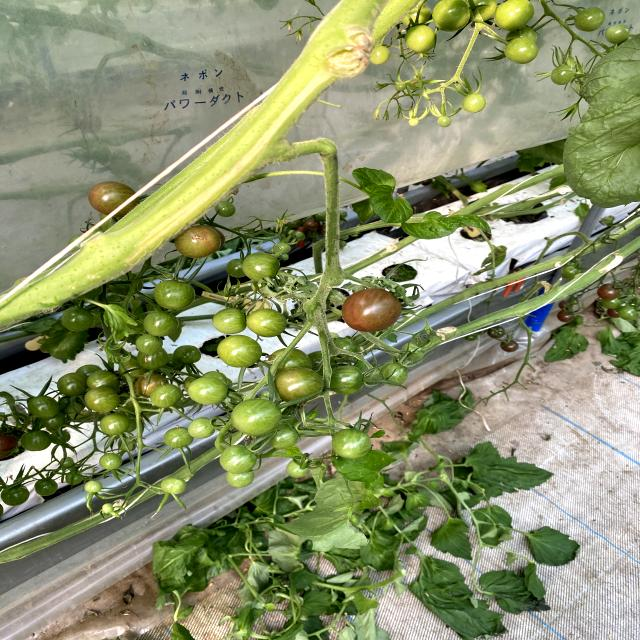ripe0: (231, 399, 281, 435), (275, 368, 324, 399), (218, 335, 262, 368), (154, 279, 195, 310), (332, 429, 372, 460), (494, 0, 535, 30), (188, 376, 227, 407), (432, 0, 471, 31), (247, 308, 287, 338), (219, 444, 258, 474), (243, 252, 280, 281), (504, 36, 539, 64), (332, 366, 365, 395), (85, 387, 120, 414), (405, 25, 437, 54), (212, 308, 246, 335), (144, 311, 179, 337), (150, 383, 182, 409), (574, 7, 605, 32), (99, 414, 132, 436), (164, 427, 192, 449), (381, 362, 407, 385), (187, 417, 214, 438), (135, 335, 163, 354), (551, 64, 575, 86), (605, 24, 630, 44), (161, 477, 187, 496), (462, 94, 486, 113), (286, 459, 308, 479), (99, 453, 123, 471), (370, 46, 391, 65), (214, 202, 236, 217), (84, 480, 103, 493), (102, 503, 113, 513)
ripe1: (342, 288, 402, 332), (176, 226, 221, 258), (88, 181, 127, 209)
